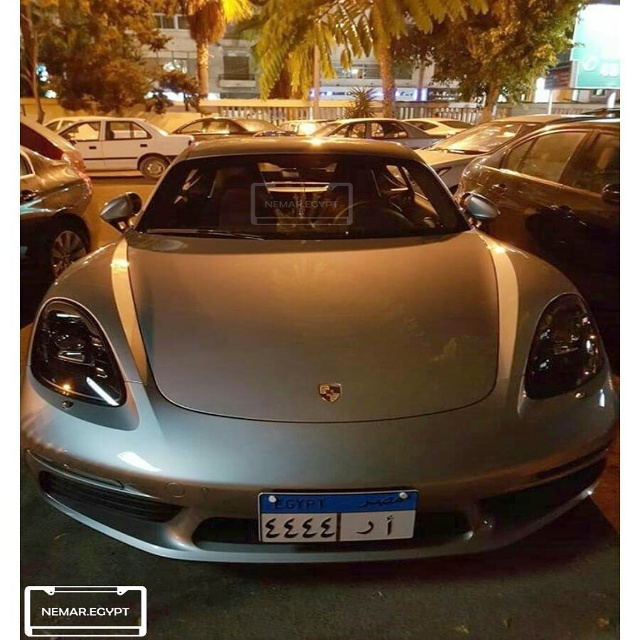License Plate: (254, 488, 423, 547)
